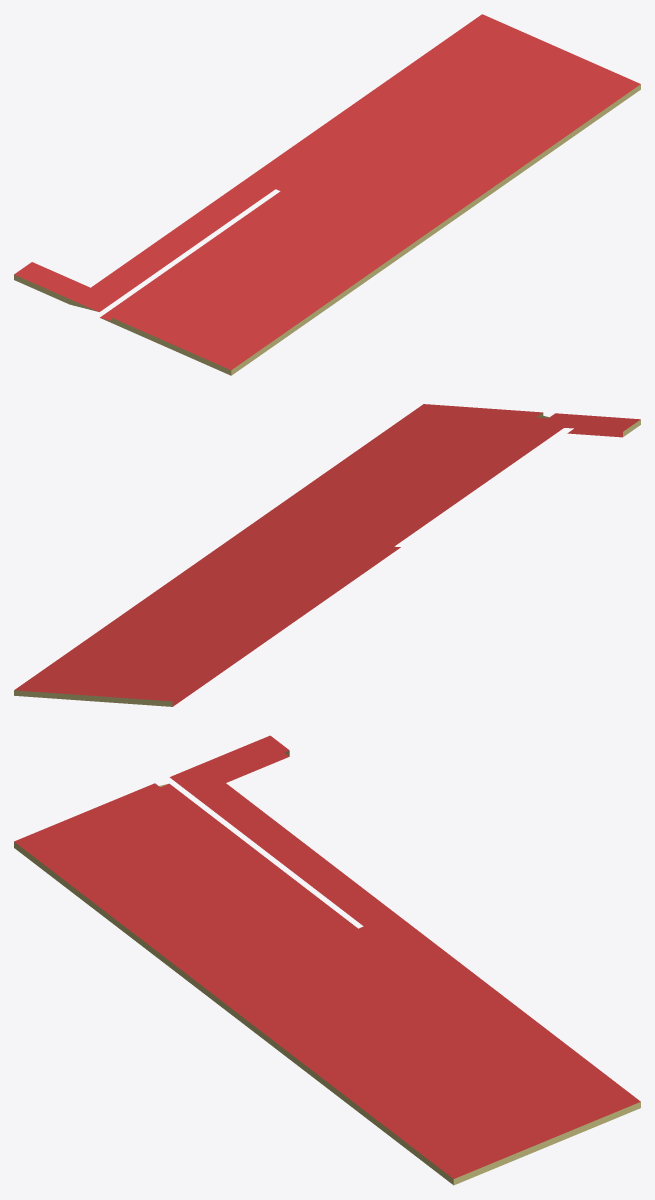
3 renders of one model, top to bottom at view 1: azimuth 30°, elevation 25°; view 2: azimuth 210°, elevation 25°; view 3: azimuth 270°, elevation 25°, orthographic. The views are drawn at different scales.
Bounding box in the file's own units: 13.38 × 8.93 × 0.829.
